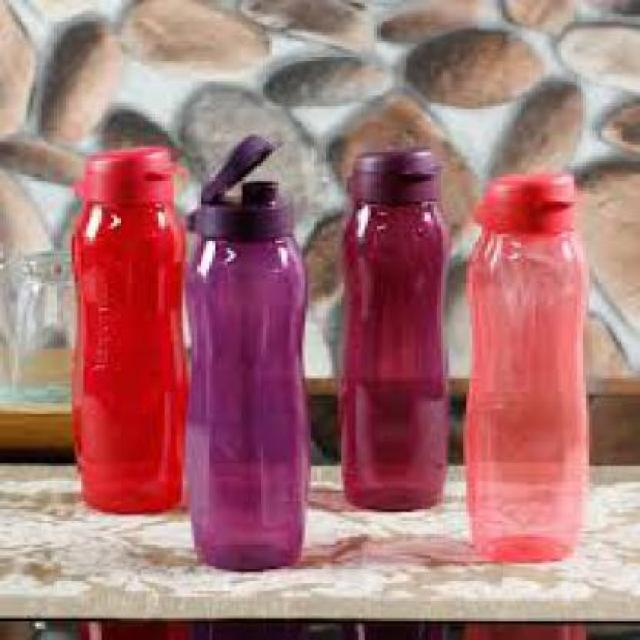Drinking: (188, 142, 314, 590), (463, 163, 595, 577), (69, 128, 176, 523), (344, 142, 454, 523)
